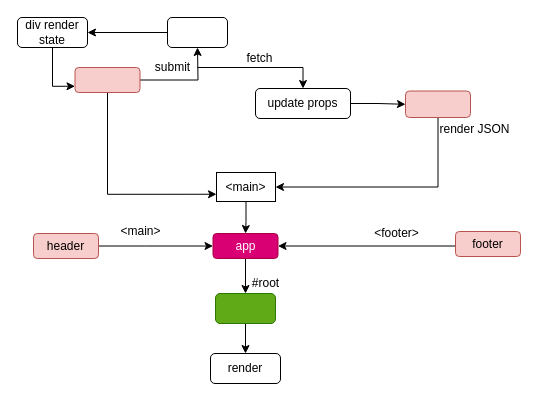
The diagram is 538 pixels wide and 401 high, and some of its shapes have lost their labels. The shapes that lost their labels are listed below. From the top down, each one's centre as x and y in pixels, then its label:
pixel 197 32: update state
pixel 107 79: form
pixel 437 104: result
pixel 245 308: index
